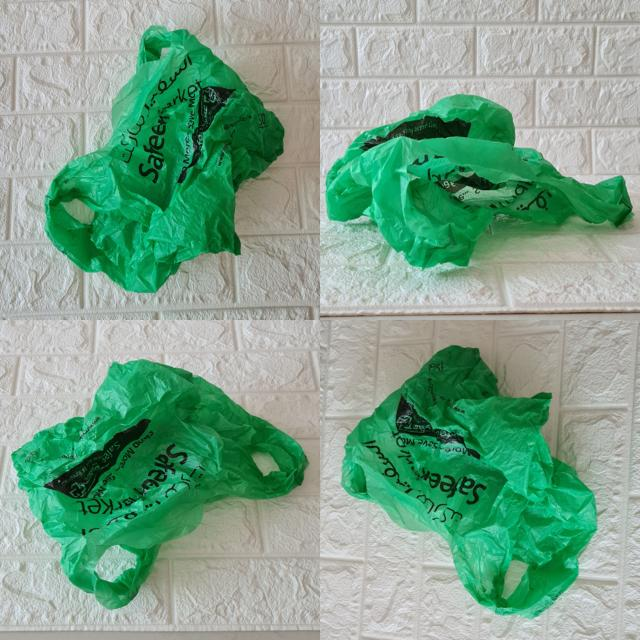Single-layer Plastic: (12, 360, 308, 609), (341, 346, 596, 619), (45, 26, 284, 292), (326, 95, 632, 269)
